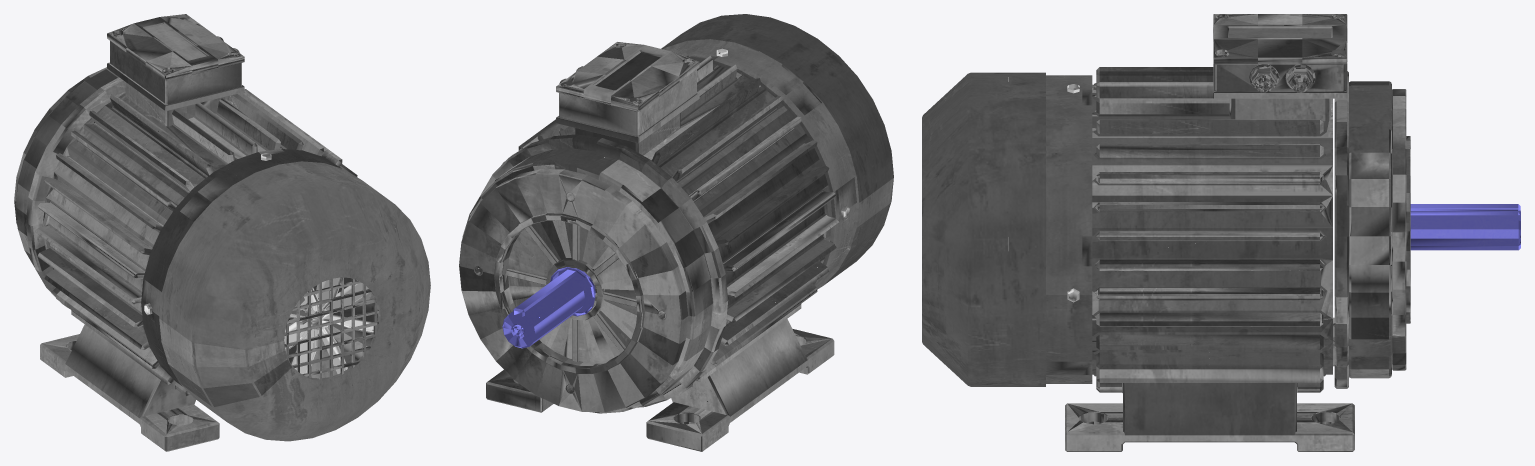
The model's file is engine2.fbx.
3 views of the same model, side by side, from view 1: azimuth 30°, elevation 25°; view 2: azimuth 150°, elevation 25°; view 3: azimuth 270°, elevation 25° (orthographic). The views are drawn at different scales.
Visible parts, largest first — view 1: Body, Vent; view 2: Body, Shaft; view 3: Body, Shaft.
Boxes of the visible parts, x1,y1,x2,y2 form: Body: (14, 14, 430, 451); Vent: (284, 277, 373, 374); Body: (459, 14, 893, 451); Shaft: (502, 267, 595, 348); Body: (922, 14, 1410, 451); Shaft: (1410, 204, 1520, 250).
Bounding box in the file's own units: 22.49 × 27.6 × 41.3.
4 materials, 2 textured.
